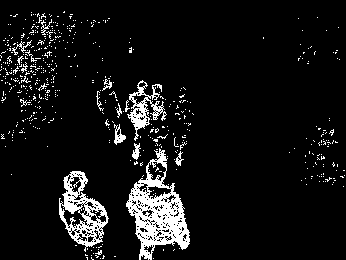person: (122, 159, 190, 260), (57, 170, 109, 260), (123, 79, 150, 167), (168, 86, 196, 166), (96, 75, 126, 145), (147, 83, 168, 160)
